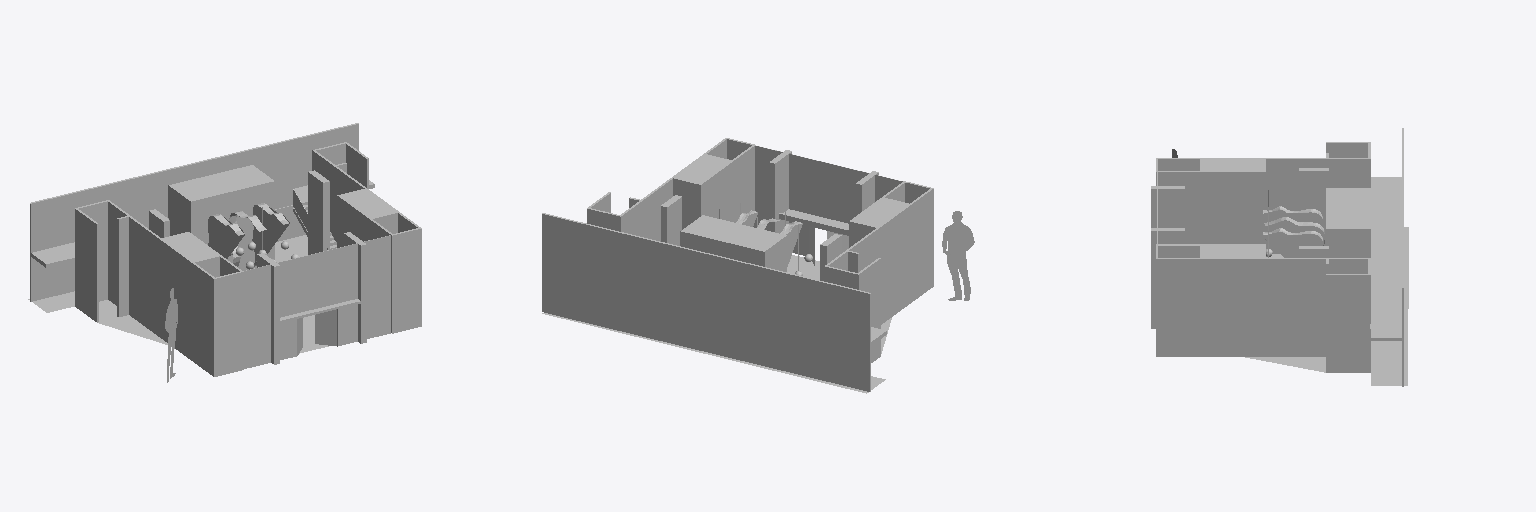
File: Trabalho1.obj
The picture shows the model from 3 angles: view 1: azimuth 30°, elevation 25°; view 2: azimuth 150°, elevation 25°; view 3: azimuth 270°, elevation 25°; orthographic projection.
Parts seen in each view (by area): view 1: Mesh2 Group_1 _MODELO_LUCCA_2_dwg1 Model, Mesh11 Group_10 _MODELO_LUCCA_2_dwg1 Model, Mesh3 Group_2 _MODELO_LUCCA_2_dwg1 Model, Mesh4 Group_3 _MODELO_LUCCA_2_dwg1 Model, Mesh16 Group_15 _MODELO_LUCCA_2_dwg1 Model, Mesh17 Group_16 _MODELO_LUCCA_2_dwg1 Model, Mesh7 Group_6 _MODELO_LUCCA_2_dwg1 Model, Mesh26 Group_25 _MODELO_LUCCA_2_dwg1 Model, Mesh23 Group_22 _MODELO_LUCCA_2_dwg1 Model, Mesh34 Group_33 _MODELO_LUCCA_2_dwg1 Model, Mesh22 Group_21 _MODELO_LUCCA_2_dwg1 Model, Mesh24 Group_23 _MODELO_LUCCA_2_dwg1 Model (+9 smaller); view 2: Mesh11 Group_10 _MODELO_LUCCA_2_dwg1 Model, Mesh2 Group_1 _MODELO_LUCCA_2_dwg1 Model, Mesh3 Group_2 _MODELO_LUCCA_2_dwg1 Model, Mesh4 Group_3 _MODELO_LUCCA_2_dwg1 Model, Mesh1 Chris1 Model, Mesh9 Group_8 _MODELO_LUCCA_2_dwg1 Model, Mesh26 Group_25 _MODELO_LUCCA_2_dwg1 Model, Mesh17 Group_16 _MODELO_LUCCA_2_dwg1 Model, Mesh23 Group_22 _MODELO_LUCCA_2_dwg1 Model, Mesh22 Group_21 _MODELO_LUCCA_2_dwg1 Model, Mesh24 Group_23 _MODELO_LUCCA_2_dwg1 Model, Mesh7 Group_6 _MODELO_LUCCA_2_dwg1 Model (+3 smaller); view 3: Mesh3 Group_2 _MODELO_LUCCA_2_dwg1 Model, Mesh2 Group_1 _MODELO_LUCCA_2_dwg1 Model, Mesh5 Group_4 _MODELO_LUCCA_2_dwg1 Model, Mesh4 Group_3 _MODELO_LUCCA_2_dwg1 Model, Mesh26 Group_25 _MODELO_LUCCA_2_dwg1 Model, Mesh8 Group_7 _MODELO_LUCCA_2_dwg1 Model, Mesh6 Group_5 _MODELO_LUCCA_2_dwg1 Model, Mesh34 Group_33 _MODELO_LUCCA_2_dwg1 Model, Mesh36 Group_35 _MODELO_LUCCA_2_dwg1 Model, Mesh9 Group_8 _MODELO_LUCCA_2_dwg1 Model.
Part boxes in pixels (bbox=[...]): Mesh2 Group_1 _MODELO_LUCCA_2_dwg1 Model: bbox=[75, 200, 243, 376]; Mesh11 Group_10 _MODELO_LUCCA_2_dwg1 Model: bbox=[30, 123, 358, 301]; Mesh3 Group_2 _MODELO_LUCCA_2_dwg1 Model: bbox=[312, 142, 421, 333]; Mesh4 Group_3 _MODELO_LUCCA_2_dwg1 Model: bbox=[168, 165, 274, 270]; Mesh16 Group_15 _MODELO_LUCCA_2_dwg1 Model: bbox=[244, 264, 270, 368]; Mesh17 Group_16 _MODELO_LUCCA_2_dwg1 Model: bbox=[364, 235, 390, 338]; Mesh7 Group_6 _MODELO_LUCCA_2_dwg1 Model: bbox=[308, 170, 329, 254]; Mesh26 Group_25 _MODELO_LUCCA_2_dwg1 Model: bbox=[28, 235, 328, 353]; Mesh23 Group_22 _MODELO_LUCCA_2_dwg1 Model: bbox=[317, 248, 337, 308]; Mesh34 Group_33 _MODELO_LUCCA_2_dwg1 Model: bbox=[252, 203, 289, 266]; Mesh22 Group_21 _MODELO_LUCCA_2_dwg1 Model: bbox=[297, 253, 316, 312]; Mesh24 Group_23 _MODELO_LUCCA_2_dwg1 Model: bbox=[338, 243, 357, 302]; Mesh11 Group_10 _MODELO_LUCCA_2_dwg1 Model: bbox=[542, 213, 870, 391]; Mesh2 Group_1 _MODELO_LUCCA_2_dwg1 Model: bbox=[824, 181, 933, 362]; Mesh3 Group_2 _MODELO_LUCCA_2_dwg1 Model: bbox=[587, 138, 754, 241]; Mesh4 Group_3 _MODELO_LUCCA_2_dwg1 Model: bbox=[680, 215, 786, 271]; Mesh1 Chris1 Model: bbox=[942, 211, 974, 300]; Mesh9 Group_8 _MODELO_LUCCA_2_dwg1 Model: bbox=[769, 150, 791, 232]; Mesh26 Group_25 _MODELO_LUCCA_2_dwg1 Model: bbox=[542, 255, 885, 393]; Mesh17 Group_16 _MODELO_LUCCA_2_dwg1 Model: bbox=[755, 145, 782, 230]; Mesh23 Group_22 _MODELO_LUCCA_2_dwg1 Model: bbox=[809, 159, 828, 218]; Mesh22 Group_21 _MODELO_LUCCA_2_dwg1 Model: bbox=[829, 163, 848, 223]; Mesh24 Group_23 _MODELO_LUCCA_2_dwg1 Model: bbox=[789, 154, 808, 213]; Mesh7 Group_6 _MODELO_LUCCA_2_dwg1 Model: bbox=[661, 195, 681, 245]; Mesh3 Group_2 _MODELO_LUCCA_2_dwg1 Model: bbox=[1156, 244, 1370, 372]; Mesh2 Group_1 _MODELO_LUCCA_2_dwg1 Model: bbox=[1156, 142, 1370, 253]; Mesh5 Group_4 _MODELO_LUCCA_2_dwg1 Model: bbox=[1370, 177, 1401, 340]; Mesh4 Group_3 _MODELO_LUCCA_2_dwg1 Model: bbox=[1326, 188, 1370, 257]; Mesh26 Group_25 _MODELO_LUCCA_2_dwg1 Model: bbox=[1371, 227, 1408, 385]; Mesh8 Group_7 _MODELO_LUCCA_2_dwg1 Model: bbox=[1151, 186, 1184, 227]; Mesh6 Group_5 _MODELO_LUCCA_2_dwg1 Model: bbox=[1299, 168, 1328, 245]; Mesh34 Group_33 _MODELO_LUCCA_2_dwg1 Model: bbox=[1263, 228, 1322, 257]; Mesh36 Group_35 _MODELO_LUCCA_2_dwg1 Model: bbox=[1263, 206, 1322, 235]; Mesh9 Group_8 _MODELO_LUCCA_2_dwg1 Model: bbox=[1151, 228, 1184, 328].
Size of the model in its own units: 265 by 77.78 by 180.